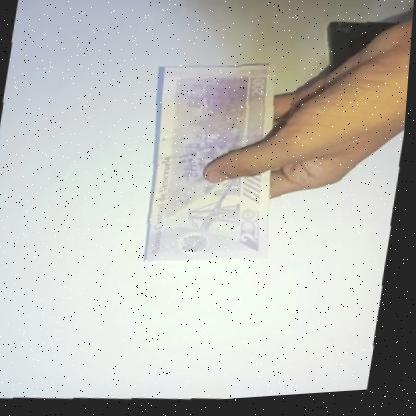two_hundred-back-vef: (136, 57, 299, 276)
